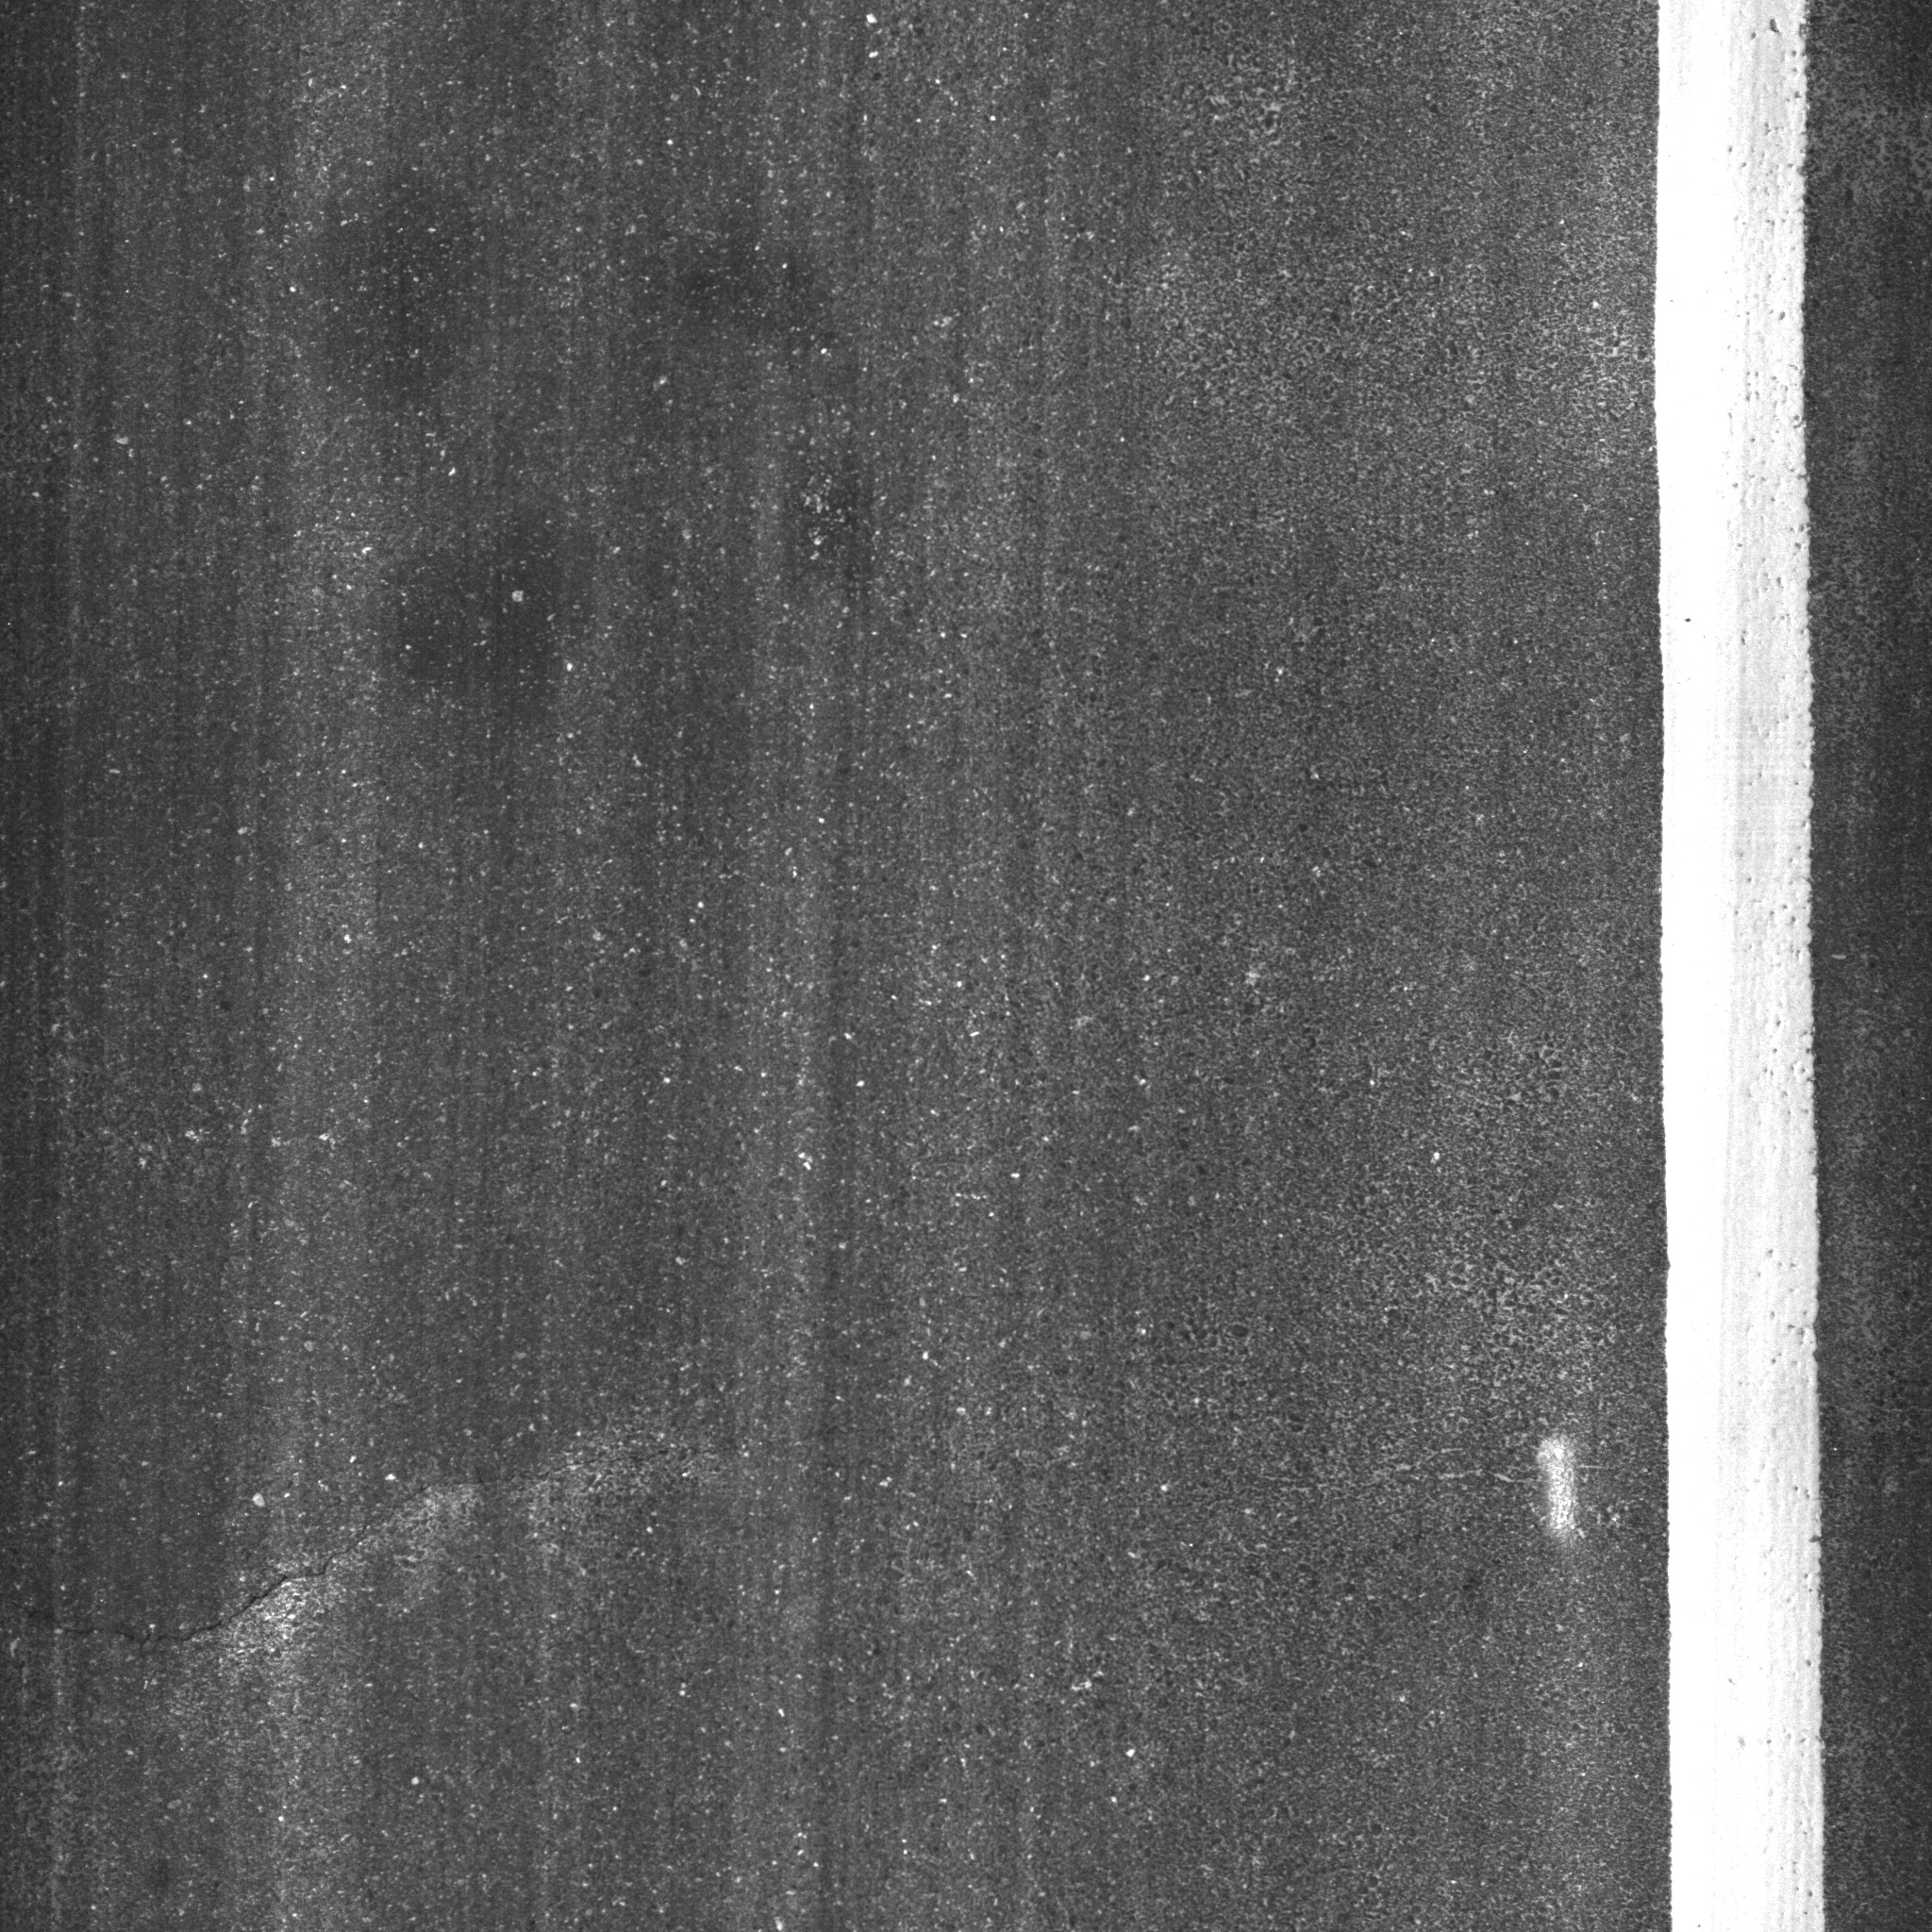transverse: (25, 1401, 747, 1744)
